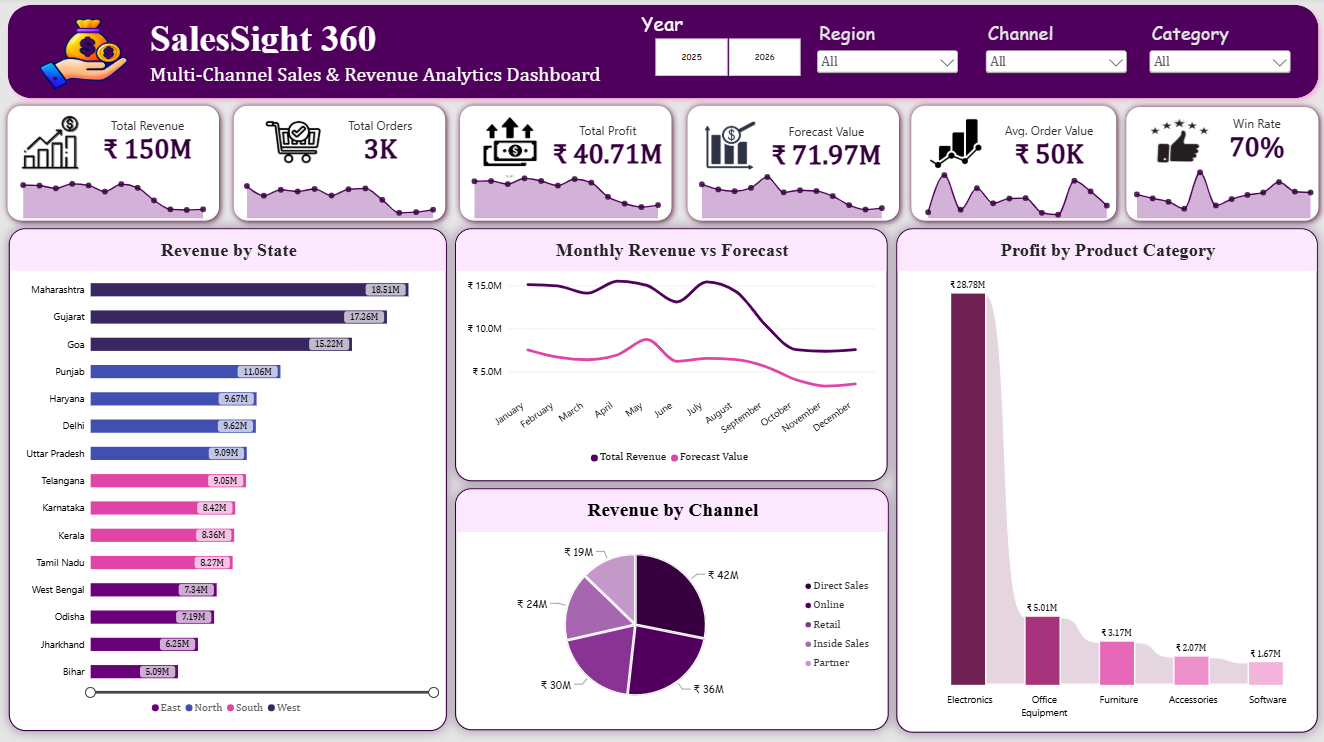

The page's visual inventory and layout, read from the dashboard file:
{"tool":"powerbi","page":{"name":"Executive Overview","canvas":[1920,1080],"ordinal":0},"visuals":[{"type":"shape","box":[0,146,328,188],"z":0},{"type":"lineChart","fields":{"Category":["Dim_Date.Month_Number"],"Y":["Sales_Data.Total Revenue"]},"box":[23.5,240.7,280.5,79.6],"z":1000},{"type":"cardVisual","fields":{"Data":["Sales_Data.Total Revenue"]},"box":[86,158,254,106],"z":2000},{"type":"shape","box":[0,0,1920,158],"z":3000},{"type":"textbox","title":"SalesSight 360","box":[218,30,334,50],"z":4000},{"type":"textbox","title":"Multi-Channel Sales & Revenue Analytics Dashboard","box":[217.2,95.9,662.3,39.8],"z":5000},{"type":"slicer","fields":{"Values":["Dim_Date.Year"]},"box":[910.3,63.3,255.2,57.9],"z":6000},{"type":"slicer","fields":{"Values":["Sales_Data.Region"]},"box":[1178,32,214,104],"z":7000},{"type":"slicer","fields":{"Values":["Sales_Data.Channel"]},"box":[1422,32,214,104],"z":8000},{"type":"slicer","fields":{"Values":["Sales_Data.Category"]},"box":[1660,32,214,104],"z":9000},{"type":"textbox","box":[0,850,328,158],"z":10000},{"type":"image","box":[36.2,18.1,168.3,123.1],"z":11000},{"type":"shape","box":[328,146,328,188],"z":12000},{"type":"shape","box":[656,146,328,188],"z":13000},{"type":"shape","box":[984,146,328,188],"z":14000},{"type":"image","box":[24,164,98,92],"z":15000},{"type":"cardVisual","fields":{"Data":["Sales_Data.Total Orders"]},"box":[424,158,254,106],"z":16000},{"type":"cardVisual","fields":{"Data":["Sales_Data.Total Profit"]},"box":[752,164,254,106],"z":17000},{"type":"cardVisual","fields":{"Data":["Sales_Data.Forecast Value"]},"box":[1080,166,232,106],"z":18000},{"type":"lineChart","fields":{"Category":["Dim_Date.Month_Number"],"Y":["Sales_Data.Total Orders"]},"box":[347.5,249.7,289.5,70.6],"z":19000},{"type":"lineChart","fields":{"Category":["Dim_Date.Month_Number"],"Y":["Sales_Data.Total Profit"]},"box":[676.8,240.7,285.9,79.6],"z":20000},{"type":"lineChart","fields":{"Category":["Dim_Date.Month_Number"],"Y":["Sales_Data.Forecast Value"]},"box":[1006.2,240.7,280.5,79.6],"z":21000},{"type":"image","box":[680,164,116,106],"z":22000},{"type":"image","box":[1006,174,96,82],"z":23000},{"type":"shape","box":[1308.4,146.6,318.5,188.2],"z":24000},{"type":"shape","box":[1620,148.6,300,186.4],"z":25000},{"type":"cardVisual","fields":{"Data":["Dim_Channel.Win Rate"]},"box":[1718.6,156.4,201.4,105.7],"z":26000},{"type":"lineChart","fields":{"Category":["Dim_Date.Month_Number"],"Y":["Dim_Channel.Win Rate"]},"box":[1635.9,240.7,271.4,79.6],"z":27000},{"type":"image","box":[1653.6,167.9,107.1,82.1],"z":28000},{"type":"cardVisual","fields":{"Data":["Sales_Data.Avg. Order Value"]},"box":[1391.6,164.7,254,106],"z":29000},{"type":"lineChart","fields":{"Category":["Dim_Date.Month_Number"],"Y":["Sales_Data.Avg. Order Value"]},"box":[1333.7,240.7,278.7,79.6],"z":30000},{"type":"image","box":[376,164,96,86],"z":31000},{"type":"image","box":[1334,166,116,88],"z":32000},{"type":"columnChart","title":"Profit by Product Category","fields":{"Category":["Sales_Data.Category"],"Y":["Sales_Data.Total Profit"]},"box":[1298,334,610,730],"z":33000},{"type":"pieChart","title":"Revenue by Channel","fields":{"Category":["Sales_Data.Channel"],"Y":["Sales_Data.Total Revenue"]},"box":[658,712,628,350],"z":34000},{"type":"barChart","title":"Revenue by State","fields":{"Category":["Sales_Data.State"],"Series":["Sales_Data.Region"],"Y":["Sum(Sales_Data.Revenue)"]},"box":[12,334,634,728],"z":35000},{"type":"lineChart","title":"Monthly Revenue vs Forecast","fields":{"Category":["Dim_Date.Year_Month.Variation.Date Hierarchy.Month"],"Y":["Sales_Data.Total Revenue","Sales_Data.Forecast Value"]},"box":[658,334,626,366],"z":36000},{"type":"textbox","title":"Year","box":[928.4,18.1,88.7,36.2],"z":37000}]}

Visuals, with their boxes in screenshot pixels (x1, y1, x2, y2), scaled from the page's 1920x1080 canvas onto the 1324x742 screenshot:
shape: [left=0, top=100, right=226, bottom=229]
lineChart - Dim_Date.Month_Number x Sales_Data.Total Revenue: [left=16, top=165, right=210, bottom=220]
cardVisual - Sales_Data.Total Revenue: [left=59, top=109, right=234, bottom=181]
shape: [left=0, top=0, right=1323, bottom=109]
"SalesSight 360" textbox: [left=150, top=21, right=381, bottom=55]
"Multi-Channel Sales & Revenue Analytics Dashboard" textbox: [left=150, top=66, right=606, bottom=93]
slicer - Dim_Date.Year: [left=628, top=43, right=804, bottom=83]
slicer - Sales_Data.Region: [left=812, top=22, right=960, bottom=93]
slicer - Sales_Data.Channel: [left=981, top=22, right=1128, bottom=93]
slicer - Sales_Data.Category: [left=1145, top=22, right=1292, bottom=93]
textbox: [left=0, top=584, right=226, bottom=693]
image: [left=25, top=12, right=141, bottom=97]
shape: [left=226, top=100, right=452, bottom=229]
shape: [left=452, top=100, right=679, bottom=229]
shape: [left=679, top=100, right=905, bottom=229]
image: [left=17, top=113, right=84, bottom=176]
cardVisual - Sales_Data.Total Orders: [left=292, top=109, right=468, bottom=181]
cardVisual - Sales_Data.Total Profit: [left=519, top=113, right=694, bottom=186]
cardVisual - Sales_Data.Forecast Value: [left=745, top=114, right=905, bottom=187]
lineChart - Dim_Date.Month_Number x Sales_Data.Total Orders: [left=240, top=172, right=439, bottom=220]
lineChart - Dim_Date.Month_Number x Sales_Data.Total Profit: [left=467, top=165, right=664, bottom=220]
lineChart - Dim_Date.Month_Number x Sales_Data.Forecast Value: [left=694, top=165, right=887, bottom=220]
image: [left=469, top=113, right=549, bottom=186]
image: [left=694, top=120, right=760, bottom=176]
shape: [left=902, top=101, right=1122, bottom=230]
shape: [left=1117, top=102, right=1323, bottom=230]
cardVisual - Dim_Channel.Win Rate: [left=1185, top=107, right=1323, bottom=180]
lineChart - Dim_Date.Month_Number x Dim_Channel.Win Rate: [left=1128, top=165, right=1315, bottom=220]
image: [left=1140, top=115, right=1214, bottom=172]
cardVisual - Sales_Data.Avg. Order Value: [left=960, top=113, right=1135, bottom=186]
lineChart - Dim_Date.Month_Number x Sales_Data.Avg. Order Value: [left=920, top=165, right=1112, bottom=220]
image: [left=259, top=113, right=325, bottom=172]
image: [left=920, top=114, right=1000, bottom=175]
"Profit by Product Category" columnChart: [left=895, top=229, right=1316, bottom=731]
"Revenue by Channel" pieChart: [left=454, top=489, right=887, bottom=730]
"Revenue by State" barChart: [left=8, top=229, right=445, bottom=730]
"Monthly Revenue vs Forecast" lineChart: [left=454, top=229, right=885, bottom=481]
"Year" textbox: [left=640, top=12, right=701, bottom=37]
